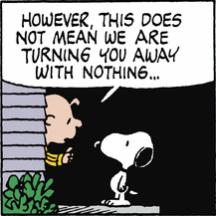charlie: (43, 94, 85, 168)
snoopy: (95, 131, 155, 207)
